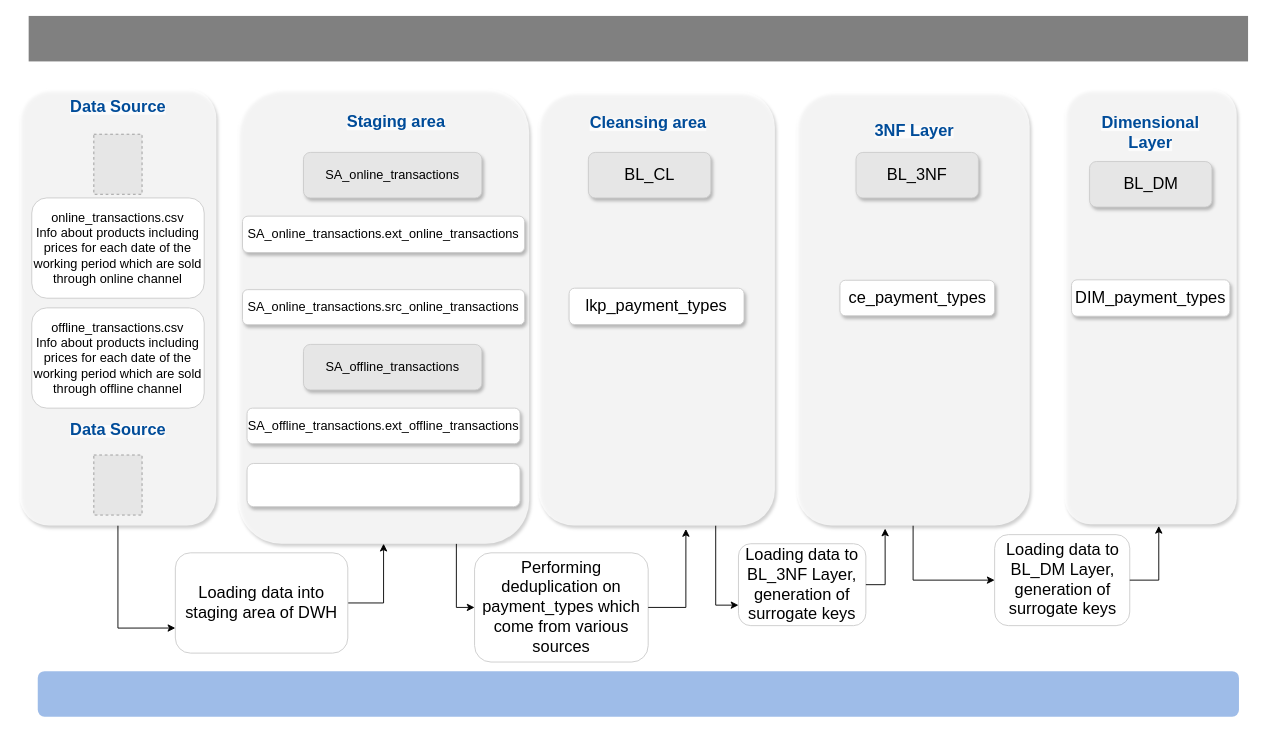
The diagram is 1263 pixels wide and 732 high, and some of its shapes have lost their labels. Grey dashed boxes stand in for pictures. Each missing label, with the centre of its shape:
"Data Flow Diagram of DIM_payment_types dimension" goes at [638,38].
"METADATA" goes at [638,693].
"SA_offline_transactions.src_offline_transactions" goes at [384,486].
